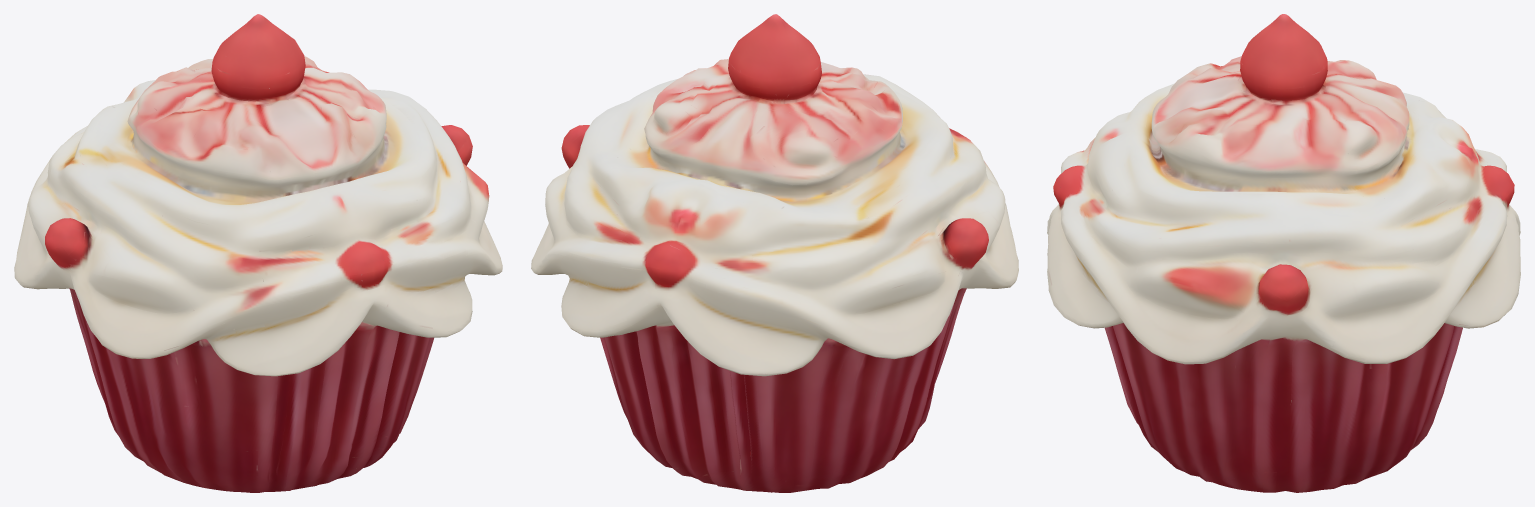
Rendered from lod_basic_shaded.fbx.
3 views of the same model, side by side, from view 1: azimuth 30°, elevation 25°; view 2: azimuth 150°, elevation 25°; view 3: azimuth 270°, elevation 25° (orthographic).
Parts seen in each view (by area): view 1: model_LOD0; view 2: model_LOD0; view 3: model_LOD0.
Part boxes in pixels (left/top/right/bottom): model_LOD0: left=14, top=14, right=502, bottom=492; model_LOD0: left=531, top=14, right=1018, bottom=492; model_LOD0: left=1047, top=14, right=1520, bottom=492.
Size of what is drawn, in the model's own units: 154 by 151 by 150.
